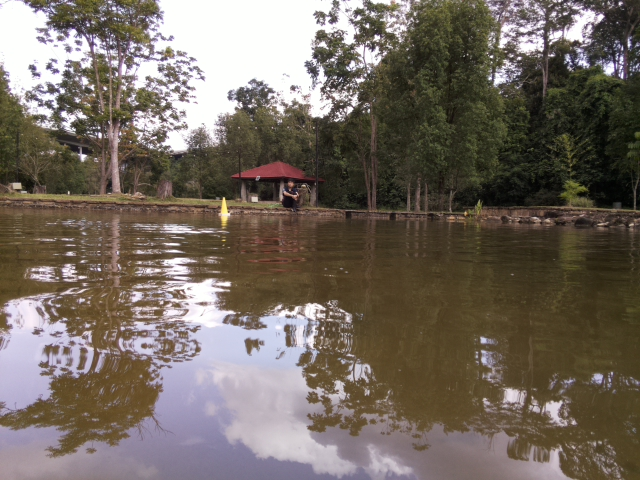checkpoint: (217, 197, 232, 217)
